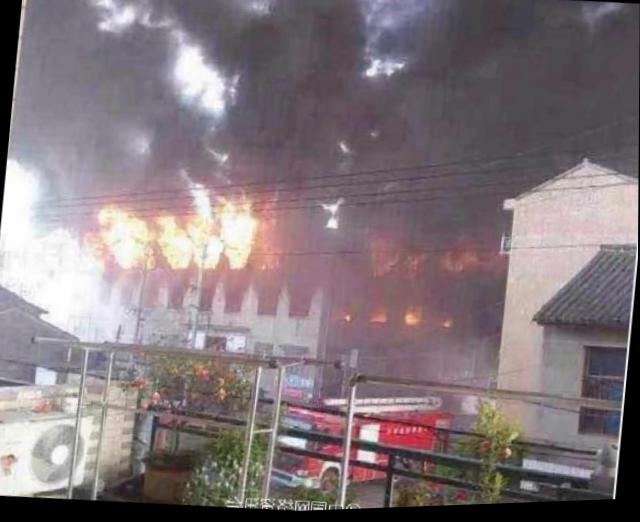fire: (95, 210, 153, 271), (219, 206, 260, 270), (158, 213, 196, 271), (189, 216, 225, 268)
